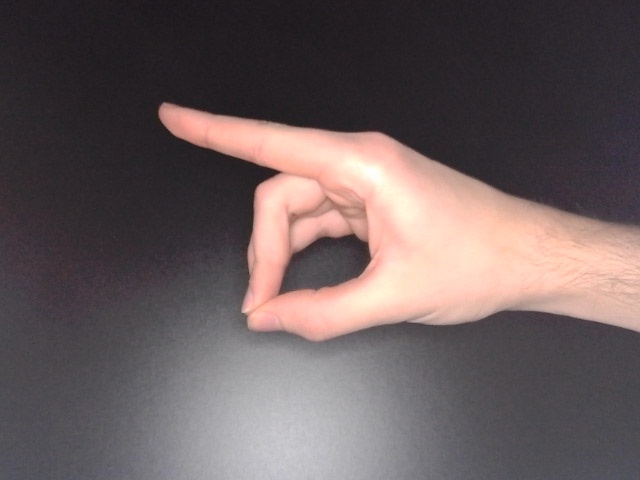p: (154, 98, 586, 349)
